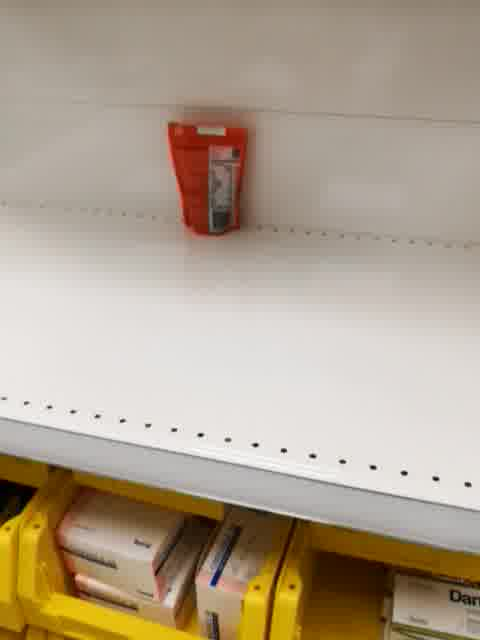whitechia: (164, 116, 252, 238)
